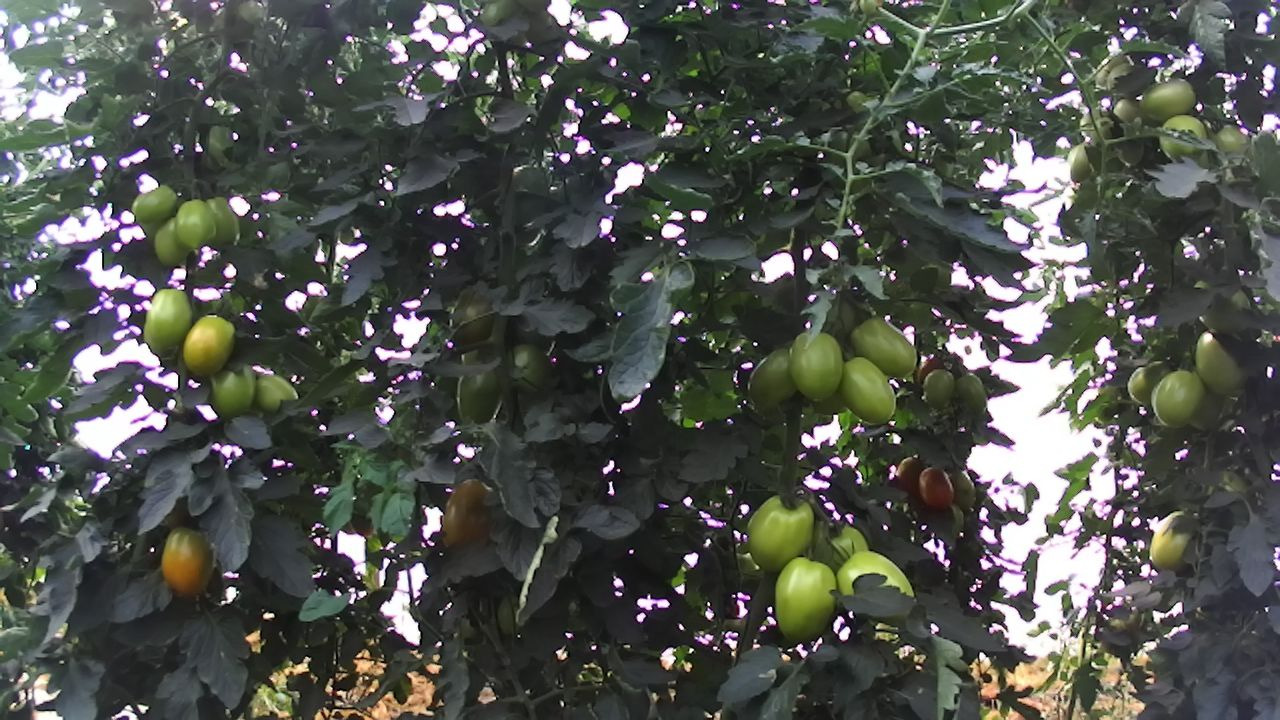tomato: (744, 490, 818, 574), (772, 553, 839, 645), (830, 540, 924, 604), (846, 313, 919, 381), (1189, 324, 1252, 401), (157, 523, 217, 600), (439, 475, 498, 553), (835, 353, 898, 426), (786, 329, 845, 404), (1145, 504, 1200, 580), (203, 357, 262, 422), (179, 314, 238, 378), (1150, 366, 1207, 431), (451, 363, 503, 433), (744, 344, 798, 410), (142, 287, 193, 351), (1136, 74, 1199, 122), (248, 369, 305, 414), (173, 197, 217, 253), (202, 194, 240, 252), (129, 182, 177, 225), (917, 461, 956, 513), (152, 216, 190, 268), (952, 371, 987, 412), (921, 367, 956, 407)
